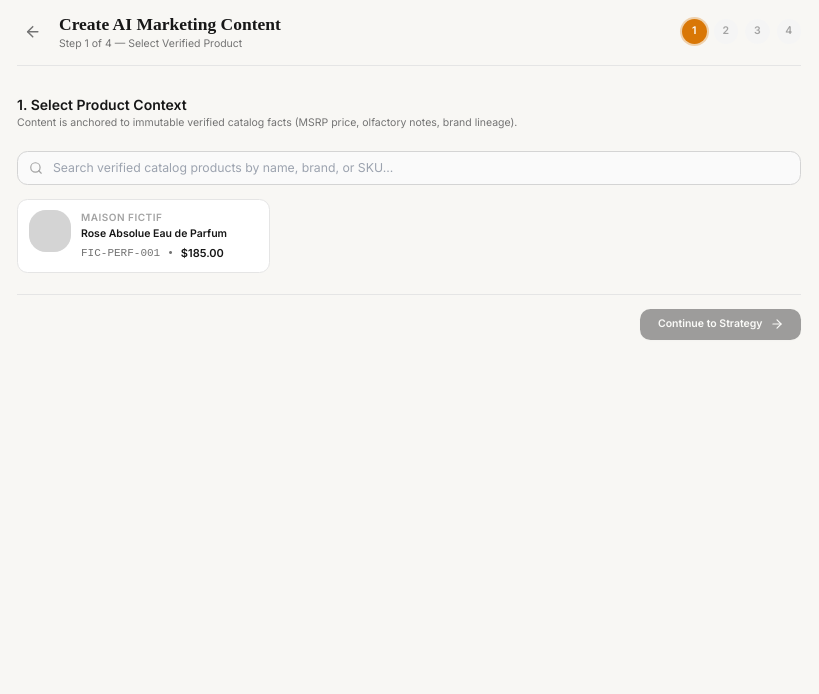
Test: Content Creation Wizard (WEB-CONTENT-06 to WEB-CONTENT-10) › WEB-CONTENT-07: Selecting a product enables Continue to step 2
Click the heading "Rose Absolue Eau de Parfum" at (154,234), box 81,227 -> 227,240
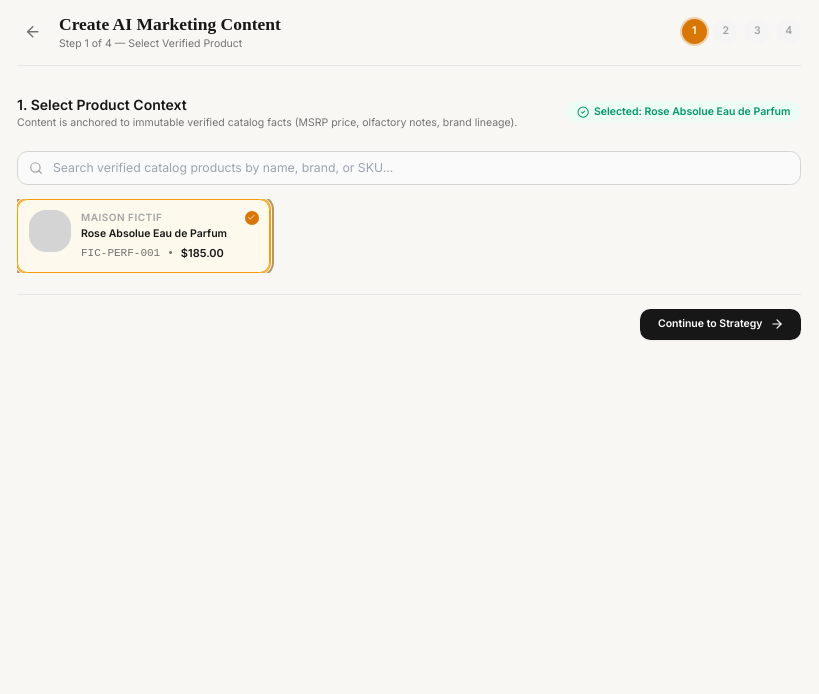
expect the text "Selected: Rose Absolue Eau de Parfum" is shown: met, box 566,101 -> 801,122
expect the button "Continue to Strategy" is enabled: met
Click the button "Continue to Strategy" at (721,324), box 640,308 -> 801,340
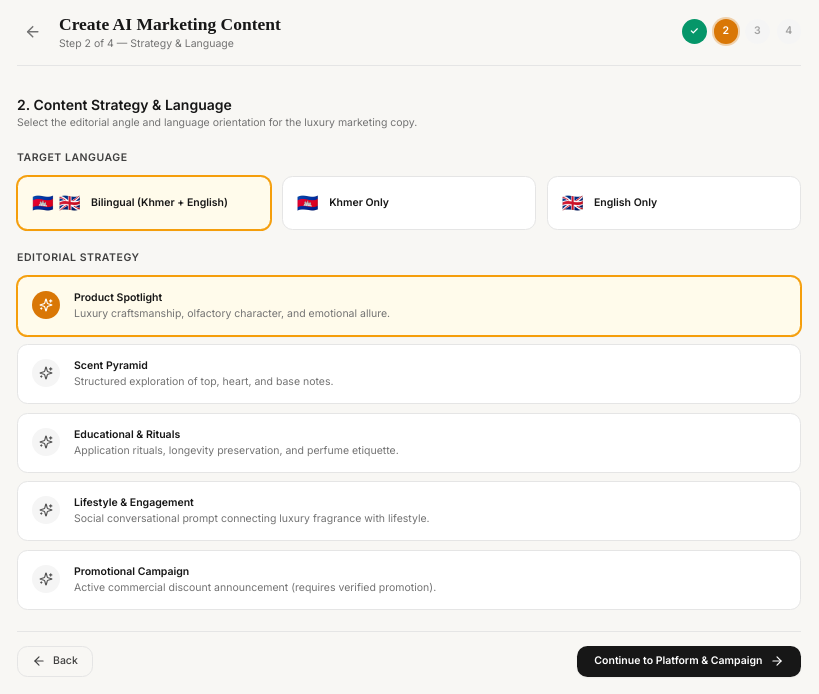
expect the heading "2. Content Strategy & Language" is shown: met, box 17,96 -> 232,112
